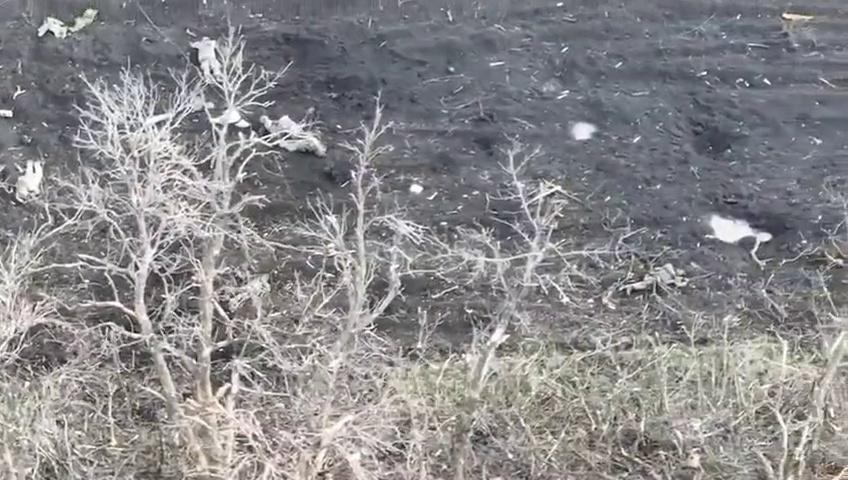person: (258, 110, 328, 160), (618, 261, 685, 295), (190, 38, 224, 84), (12, 158, 43, 201)
